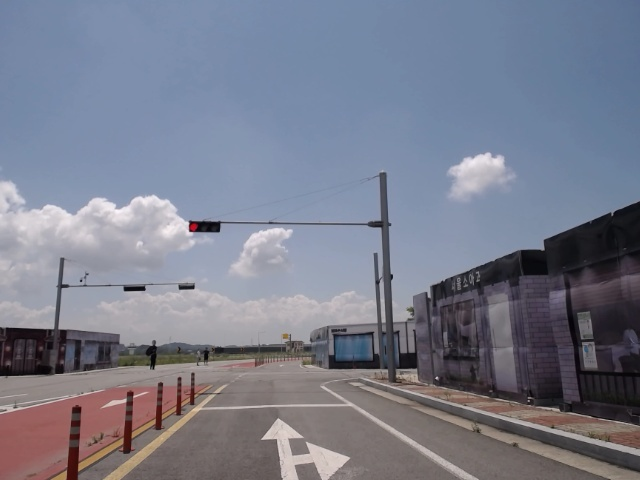red_3: (189, 221, 222, 233)
